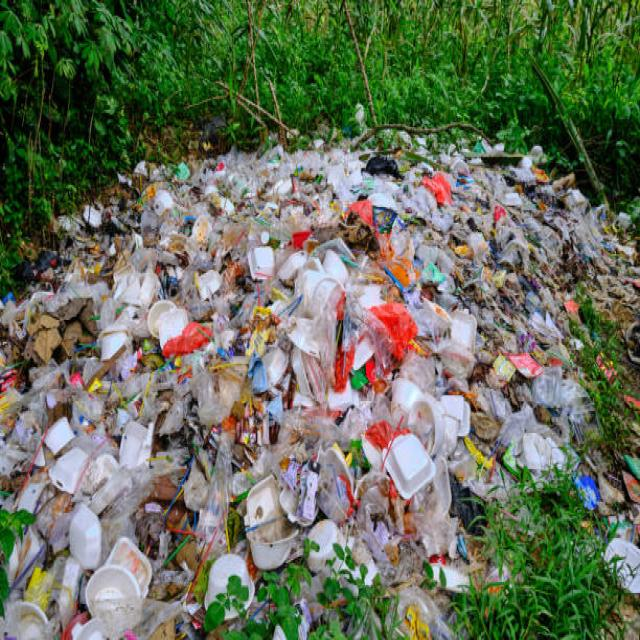plastic: (92, 157, 477, 560)
